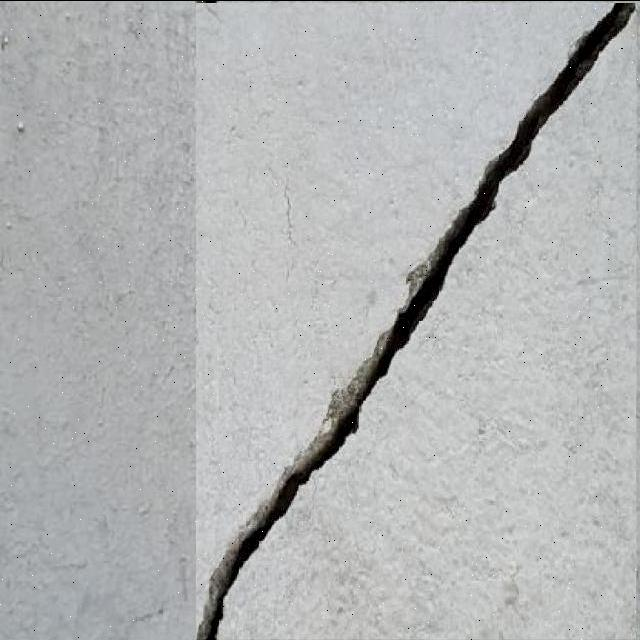crack: (189, 1, 637, 639)
